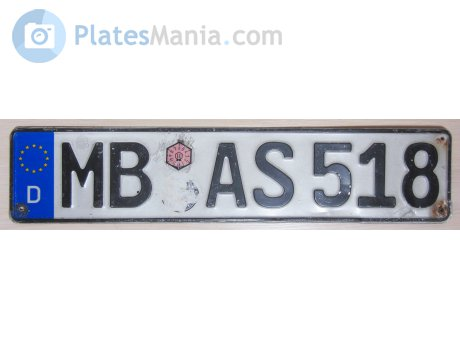License Plates: (51, 130, 446, 215)
